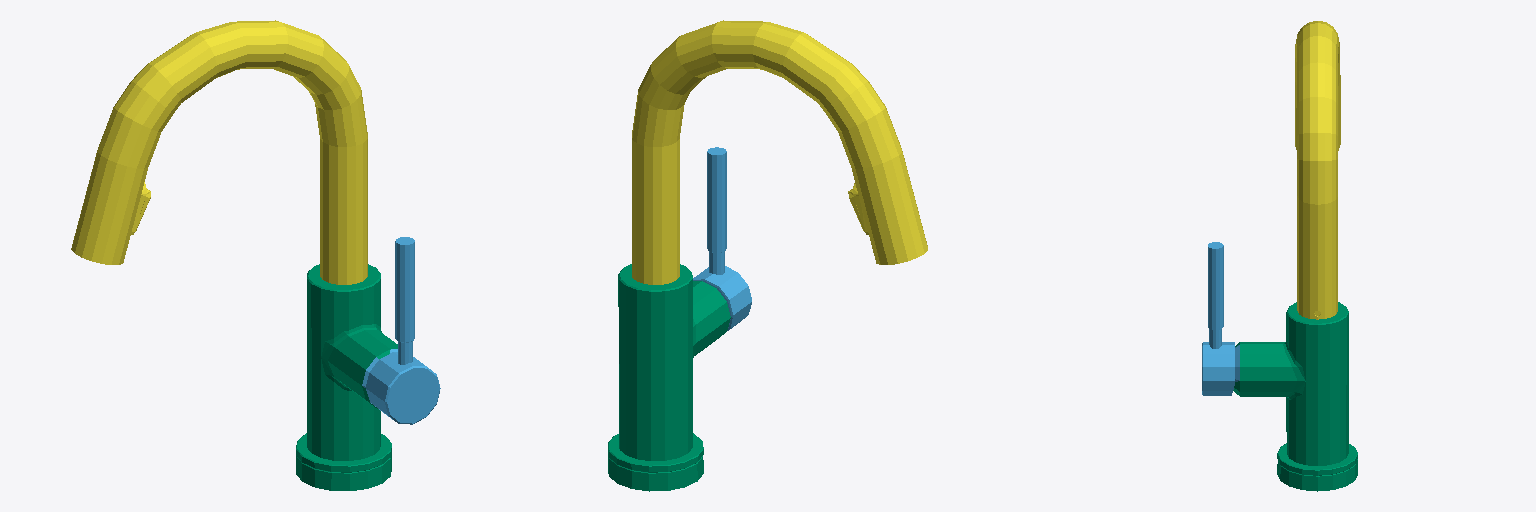
URDF robot description (partnet_64050bcb4cffb2d176c18e71fd49c4dc):
<?xml version="1.0" ?>
<robot name="partnet_64050bcb4cffb2d176c18e71fd49c4dc">
	<link name="base"/>
	<link name="link_0">
		<visual name="switch-2">
			<origin xyz="-0.43931200000000015 0.4139924110887381 0.23139238117212824"/>
			<geometry>
				<mesh filename="textured_objs/new-4.obj"/>
			</geometry>
		</visual>
		<collision>
			<origin xyz="-0.43931200000000015 0.4139924110887381 0.23139238117212824"/>
			<geometry>
				<mesh filename="textured_objs/new-4.obj"/>
			</geometry>
		</collision>
	</link>
	<joint name="joint_0" type="revolute">
		<origin xyz="0.43931200000000015 -0.4139924110887381 -0.23139238117212824"/>
		<axis xyz="0.9999999999999999 0 0"/>
		<child link="link_0"/>
		<parent link="link_1"/>
		<limit lower="-0.0" upper="1.5707963267948966"/>
	</joint>
	<link name="link_1">
		<visual name="surface_base-11">
			<origin xyz="0 0 0"/>
			<geometry>
				<mesh filename="textured_objs/original-3.obj"/>
			</geometry>
		</visual>
		<visual name="vertical_support-12">
			<origin xyz="0 0 0"/>
			<geometry>
				<mesh filename="textured_objs/new-6.obj"/>
			</geometry>
		</visual>
		<visual name="horizontal_support-13">
			<origin xyz="0 0 0"/>
			<geometry>
				<mesh filename="textured_objs/new-5.obj"/>
			</geometry>
		</visual>
		<collision>
			<origin xyz="0 0 0"/>
			<geometry>
				<mesh filename="textured_objs/original-3.obj"/>
			</geometry>
		</collision>
		<collision>
			<origin xyz="0 0 0"/>
			<geometry>
				<mesh filename="textured_objs/new-6.obj"/>
			</geometry>
		</collision>
		<collision>
			<origin xyz="0 0 0"/>
			<geometry>
				<mesh filename="textured_objs/new-5.obj"/>
			</geometry>
		</collision>
	</link>
	<joint name="joint_1" type="fixed">
		<origin rpy="1.570796326794897 0 -1.570796326794897" xyz="0 0 0"/>
		<child link="link_1"/>
		<parent link="base"/>
	</joint>
	<link name="link_2">
		<visual name="head-6">
			<origin xyz="0.04655285175333916 0 0.22282432559837356"/>
			<geometry>
				<mesh filename="textured_objs/new-2.obj"/>
			</geometry>
		</visual>
		<visual name="mouth-7">
			<origin xyz="0.04655285175333916 0 0.22282432559837356"/>
			<geometry>
				<mesh filename="textured_objs/new-1.obj"/>
			</geometry>
		</visual>
		<visual name="tube-8">
			<origin xyz="0.04655285175333916 0 0.22282432559837356"/>
			<geometry>
				<mesh filename="textured_objs/new-3.obj"/>
			</geometry>
		</visual>
		<visual name="other_leaf-10">
			<origin xyz="0.04655285175333916 0 0.22282432559837356"/>
			<geometry>
				<mesh filename="textured_objs/new-0.obj"/>
			</geometry>
		</visual>
		<collision>
			<origin xyz="0.04655285175333916 0 0.22282432559837356"/>
			<geometry>
				<mesh filename="textured_objs/new-2.obj"/>
			</geometry>
		</collision>
		<collision>
			<origin xyz="0.04655285175333916 0 0.22282432559837356"/>
			<geometry>
				<mesh filename="textured_objs/new-1.obj"/>
			</geometry>
		</collision>
		<collision>
			<origin xyz="0.04655285175333916 0 0.22282432559837356"/>
			<geometry>
				<mesh filename="textured_objs/new-3.obj"/>
			</geometry>
		</collision>
		<collision>
			<origin xyz="0.04655285175333916 0 0.22282432559837356"/>
			<geometry>
				<mesh filename="textured_objs/new-0.obj"/>
			</geometry>
		</collision>
	</link>
	<joint name="joint_2" type="continuous">
		<origin xyz="-0.04655285175333916 0 -0.22282432559837356"/>
		<axis xyz="0 1 0"/>
		<child link="link_2"/>
		<parent link="link_1"/>
	</joint>
</robot>

--- Facts derived from the render (not from the file) ---
3 views of the same robot in one strip: view 1: azimuth 30°, elevation 25°; view 2: azimuth 150°, elevation 25°; view 3: azimuth 270°, elevation 25° (orthographic).
Model partnet_64050bcb4cffb2d176c18e71fd49c4dc with 4 links and 3 joints (1 revolute, 1 continuous, 1 fixed), rooted at base, posed all joints at 0.
Links seen in each view (by area): view 1: link_2, link_1, link_0; view 2: link_2, link_1, link_0; view 3: link_1, link_2, link_0.
Link boxes in pixels (box(x1,y1,x2,y2)): link_2: box(71, 20, 367, 284); link_1: box(296, 264, 397, 490); link_0: box(362, 237, 440, 424); link_2: box(632, 20, 927, 284); link_1: box(608, 264, 730, 491); link_0: box(693, 147, 751, 330); link_1: box(1233, 302, 1357, 491); link_2: box(1295, 21, 1340, 319); link_0: box(1202, 242, 1239, 395).
Bounding box of the posed robot: 1.26 × 0.6569 × 1.83 m (x, y, z).
8 mesh visuals loaded from 8 distinct referenced files (8 OBJ).
